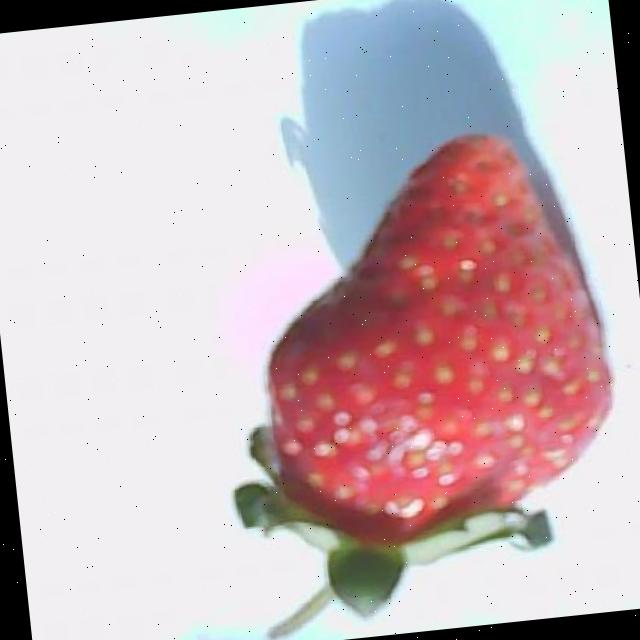strawberry: (235, 133, 608, 638)
